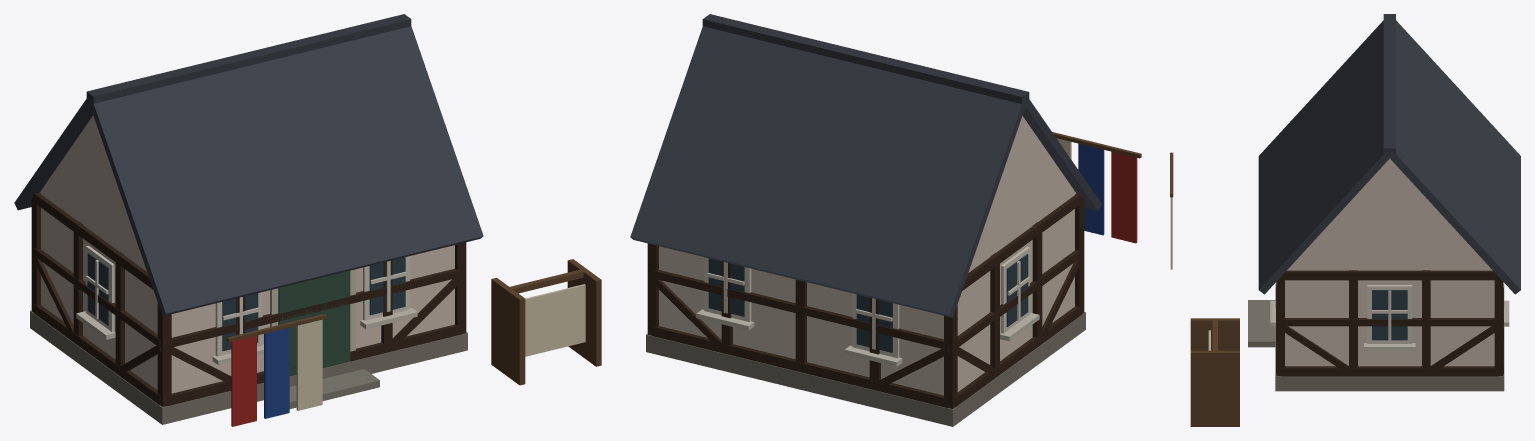
Rendered from procedural_weaver@3.glb.
3 renders of one model, left to right at view 1: azimuth 30°, elevation 25°; view 2: azimuth 150°, elevation 25°; view 3: azimuth 270°, elevation 25°, orthographic. The views are drawn at different scales.
Visible parts, largest first — view 1: part_0; view 2: part_0; view 3: part_0.
Boxes of the visible parts, left/top/right/bottom form: part_0: left=14, top=14, right=601, bottom=426; part_0: left=630, top=14, right=1141, bottom=426; part_0: left=1170, top=14, right=1520, bottom=426.
Size of the model in its own units: 7.26 by 4.97 by 6.43.
